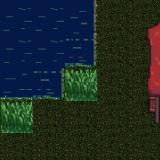Interaction: (85, 0, 106, 76), (0, 91, 56, 110), (56, 77, 70, 111), (56, 60, 84, 76)
Obstacle: (122, 0, 160, 160)
Slow: (64, 68, 96, 102), (0, 100, 33, 132)
